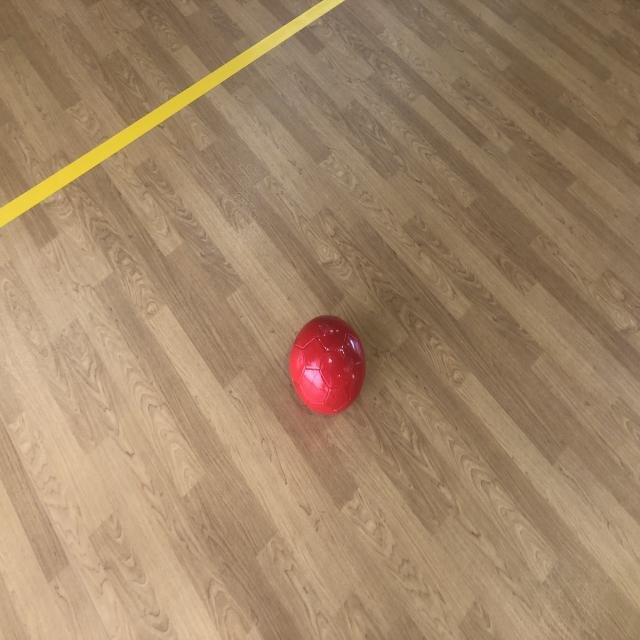red_ball: (288, 313, 364, 413)
